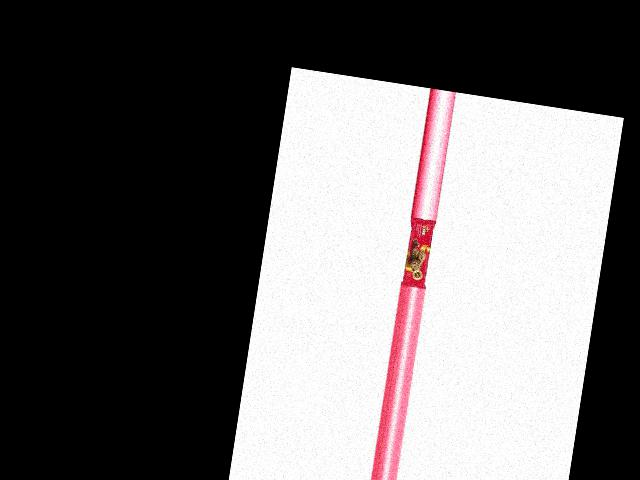chocolate: (398, 215, 435, 287)
